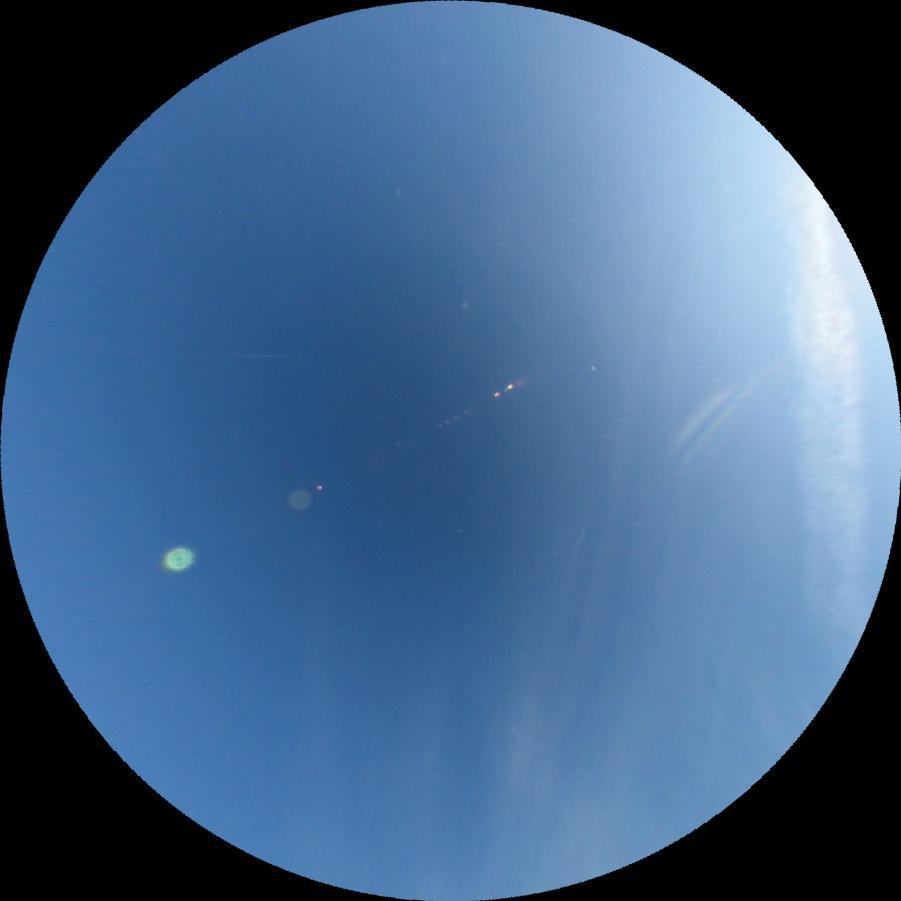contrail veryold: (775, 159, 881, 655)
contrail young: (568, 526, 587, 561), (240, 351, 288, 358)
parasite: (665, 374, 743, 451)
